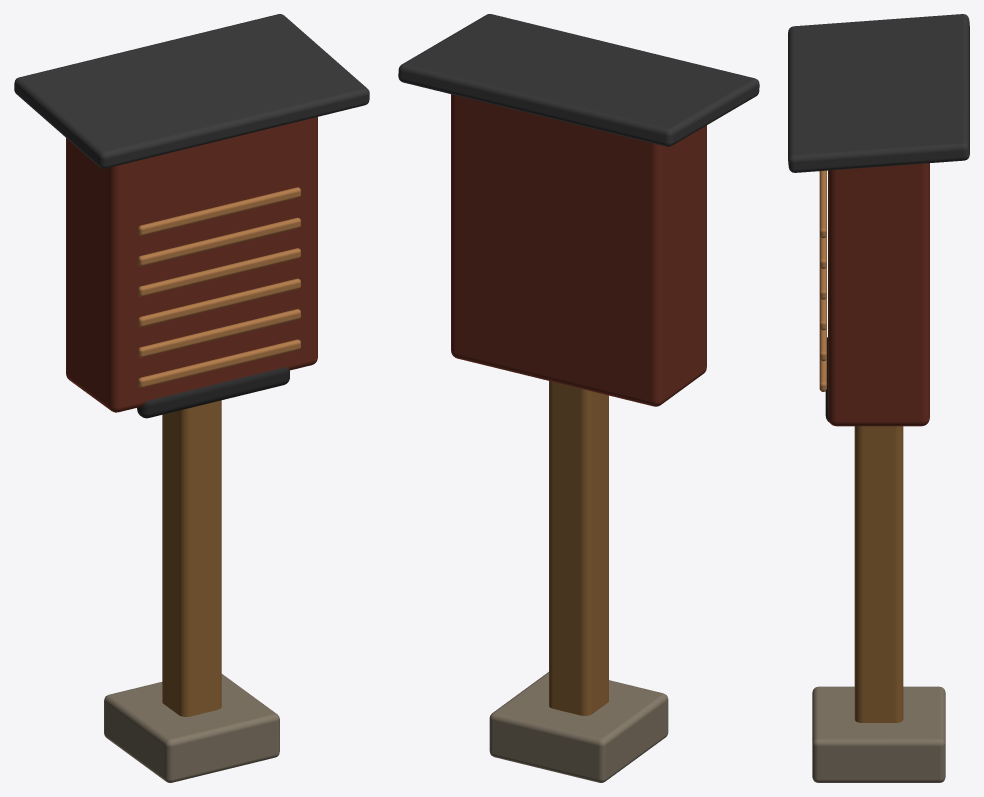
The model's file is bat-house.glb.
The picture shows the model from 3 angles, left to right: view 1: azimuth 30°, elevation 25°; view 2: azimuth 150°, elevation 25°; view 3: azimuth 270°, elevation 25°; orthographic projection.
Visible parts, largest first — view 1: bat-house-farm-barn-red-dark, bat-house-farm-roof-slate, bat-house-farm-wood-dark, bat-house-farm-stone, bat-house-farm-wood-light, bat-house-farm-window; view 2: bat-house-farm-barn-red-dark, bat-house-farm-roof-slate, bat-house-farm-wood-dark, bat-house-farm-stone; view 3: bat-house-farm-roof-slate, bat-house-farm-barn-red-dark, bat-house-farm-wood-dark, bat-house-farm-stone, bat-house-farm-wood-light.
Part boxes in pixels (x1,y1,x2,y2): bat-house-farm-barn-red-dark: (66,117,317,412); bat-house-farm-roof-slate: (14,14,369,168); bat-house-farm-wood-dark: (162,400,221,716); bat-house-farm-stone: (104,674,279,782); bat-house-farm-wood-light: (138,187,300,387); bat-house-farm-window: (137,367,289,418); bat-house-farm-barn-red-dark: (451,94,706,406); bat-house-farm-roof-slate: (398,14,759,146); bat-house-farm-wood-dark: (549,381,608,715); bat-house-farm-stone: (489,672,668,782); bat-house-farm-roof-slate: (788,14,969,172); bat-house-farm-barn-red-dark: (828,163,929,426); bat-house-farm-wood-dark: (854,426,903,722); bat-house-farm-stone: (812,686,945,782); bat-house-farm-wood-light: (819,170,826,391).
Size of the model in its own units: 1.3 by 3.09 by 0.75.
